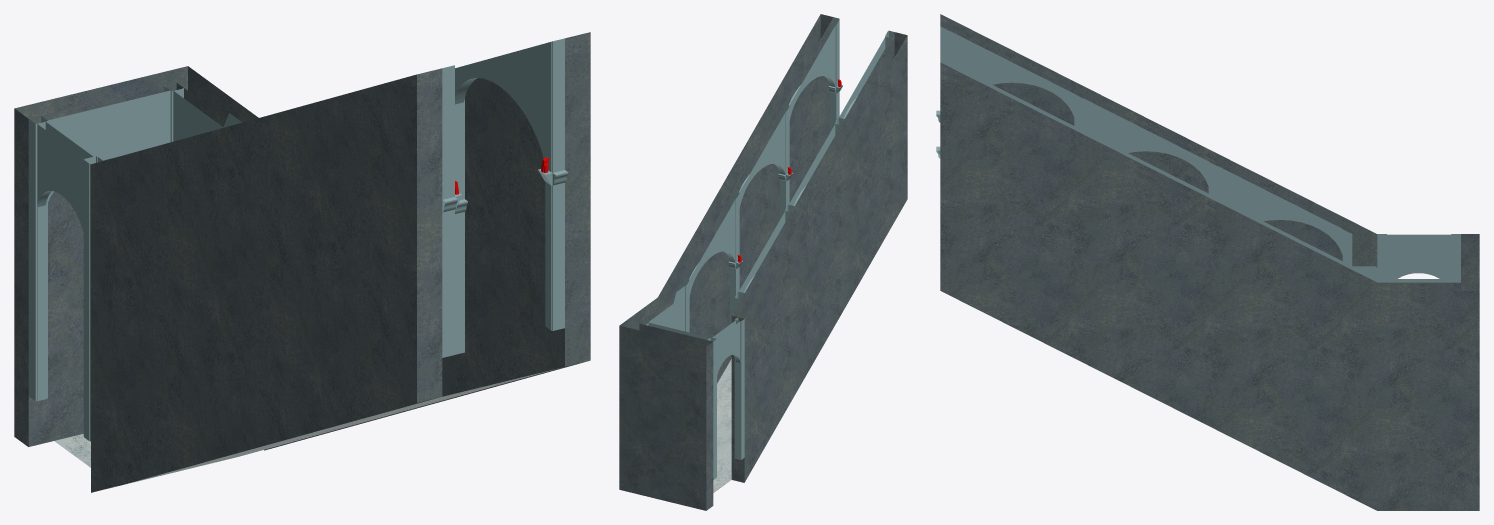
The model's file is FinalMap_Stairs_Walls.FBX.
The picture shows the model from 3 angles, left to right: view 1: azimuth 30°, elevation 25°; view 2: azimuth 150°, elevation 25°; view 3: azimuth 270°, elevation 25°; orthographic projection. The views are drawn at different scales.
Visible parts, largest first — view 1: FinalMap_Stairs_Deco; view 2: FinalMap_Stairs_Deco; view 3: FinalMap_Stairs_Deco.
Part boxes in pixels (x1=…): FinalMap_Stairs_Deco: x1=14, y1=32, x2=590, y2=492; FinalMap_Stairs_Deco: x1=619, y1=14, x2=907, y2=510; FinalMap_Stairs_Deco: x1=936, y1=14, x2=1479, y2=510.
Bounding box in the file's own units: 261 × 943 × 1055.
